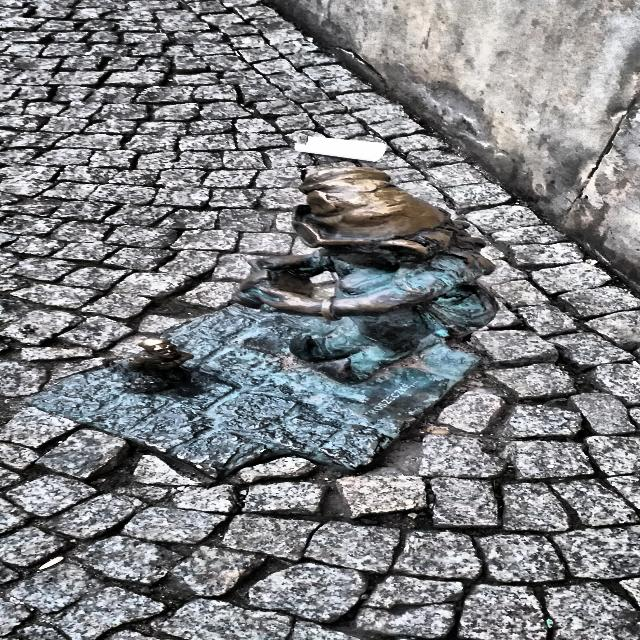Troszka i Adoratorek: (28, 152, 496, 476)
